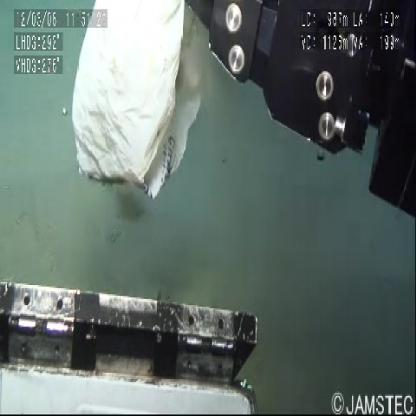Rov: (191, 1, 416, 235), (1, 274, 275, 416)
Rác: (70, 2, 210, 208)
